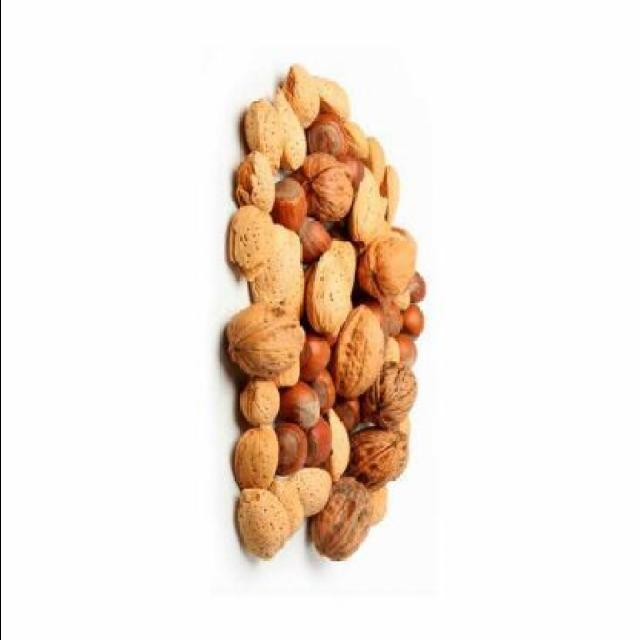Frutta secca: (219, 62, 430, 568)
